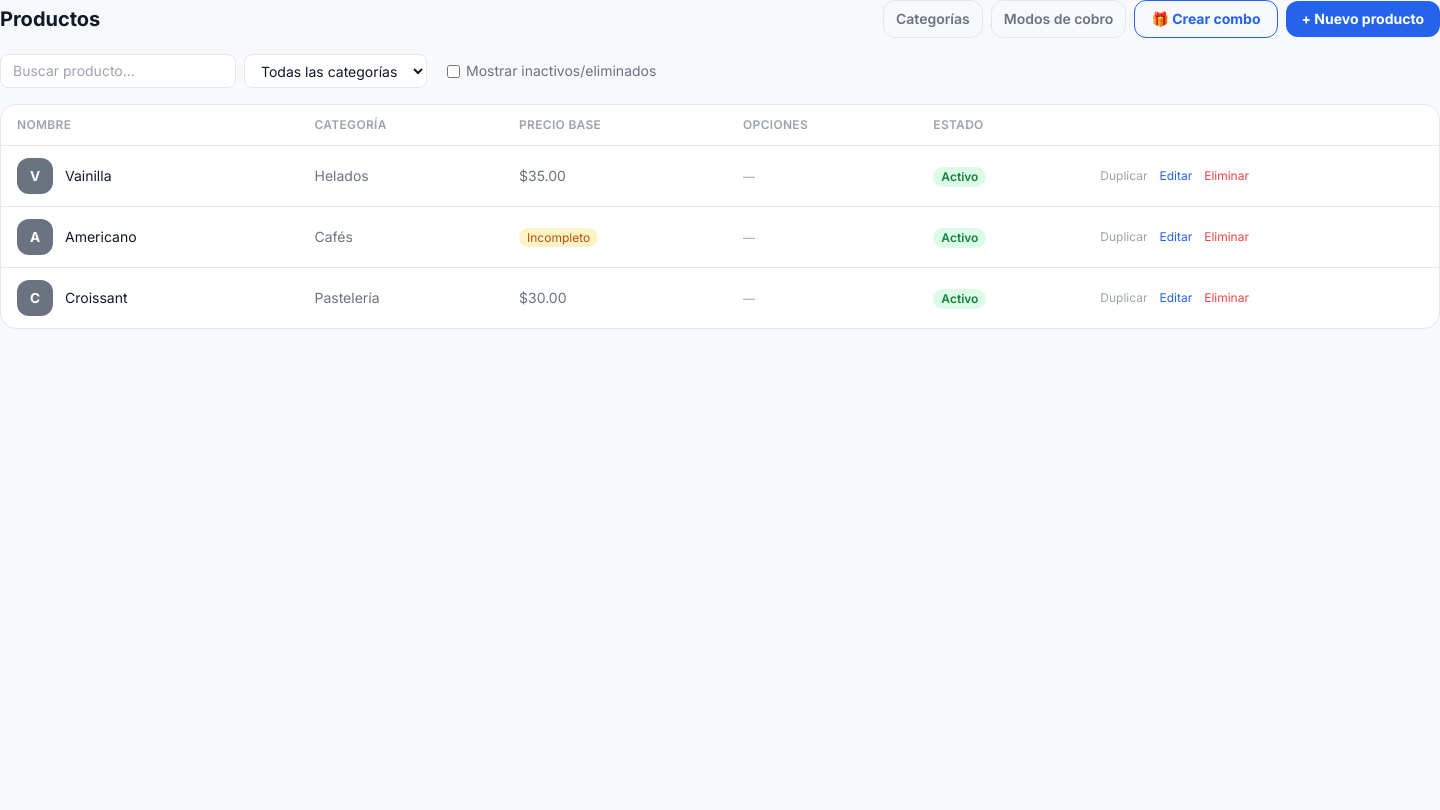
Test case: ProductsPage › always shows the inventory status of every extra option
The image size is (1440, 810).
Click the button "+ Nuevo producto" at (1363, 19), box [1286,1,1439,37]
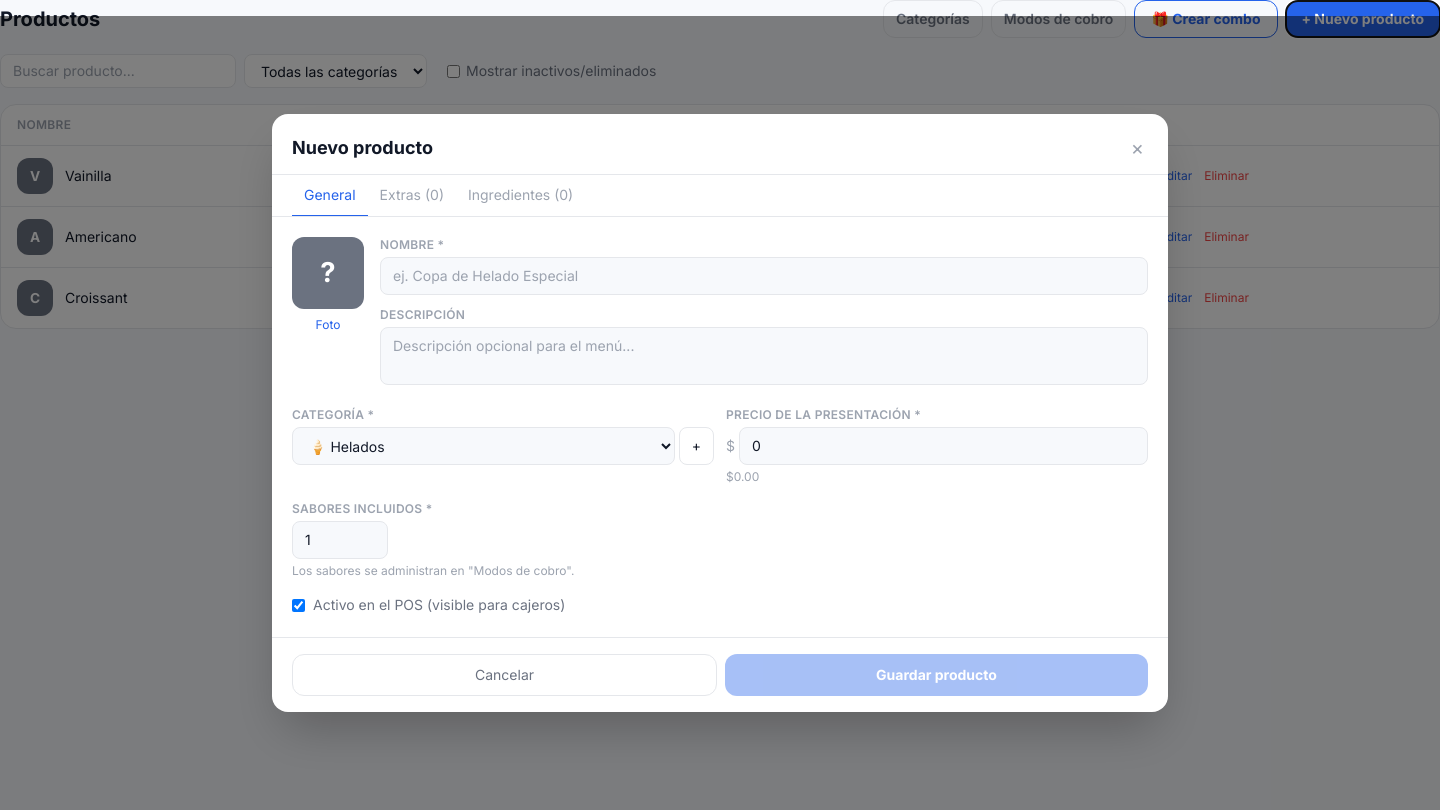
Click the button "Extras (0)" at (412, 196), box [368,175,456,217]
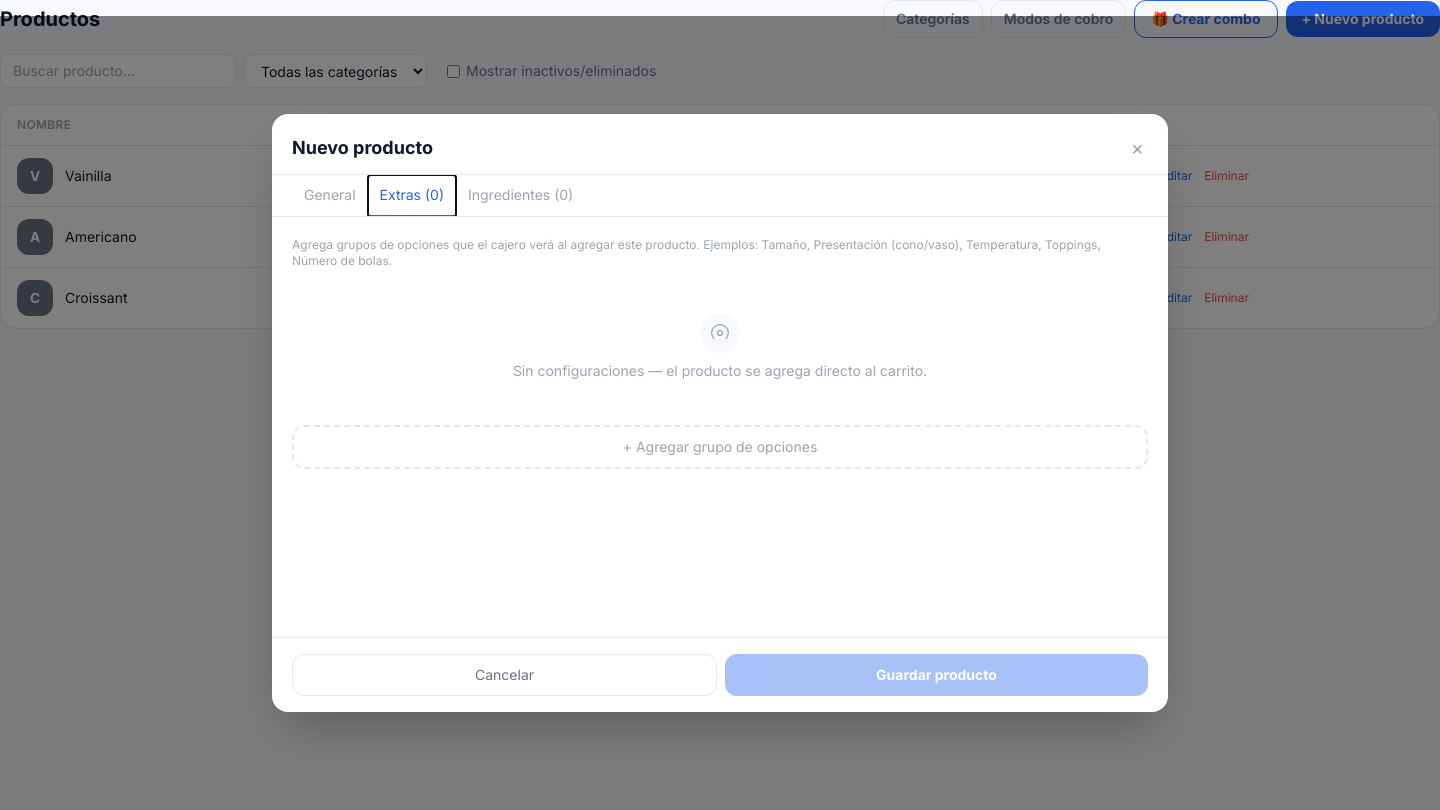
Click the button "+ Agregar grupo de opciones" at (720, 447), box [292,425,1148,469]
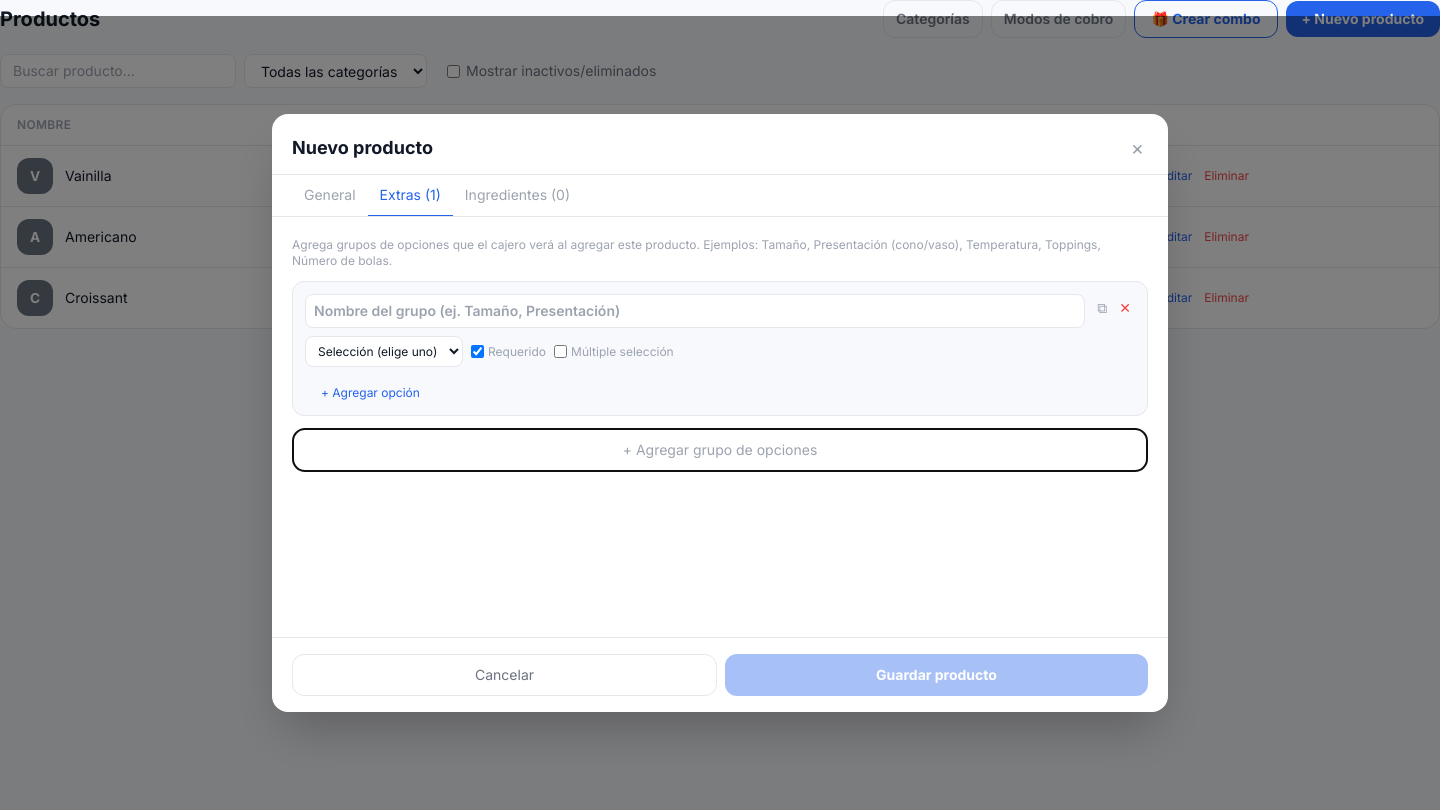
Click the button "+ Agregar opción" at (362, 393), box [305,385,420,401]
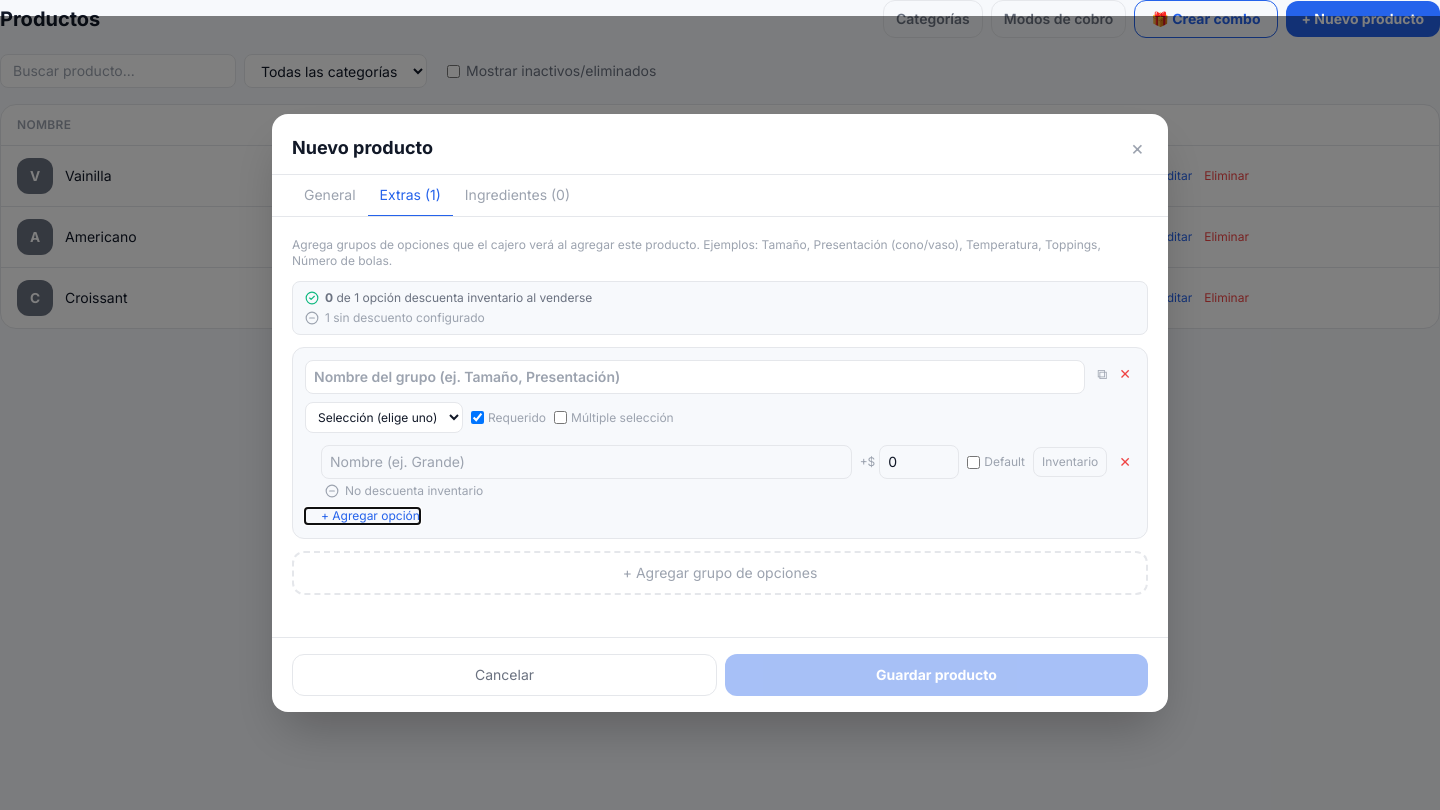
Now the text "No descuenta inventario" is shown, box [345,483,483,500]
Now the text "0 de 1 opción descuenta inventario al venderse" is shown, box [325,290,592,306]
Now the text "1 sin descuento configurado" is shown, box [325,310,485,326]
